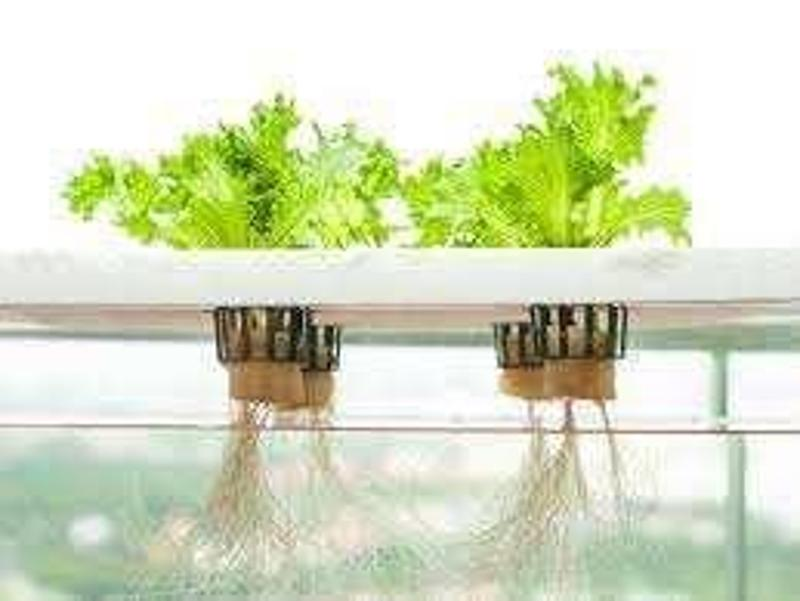green lettuce: (398, 66, 693, 247), (81, 108, 400, 244)
